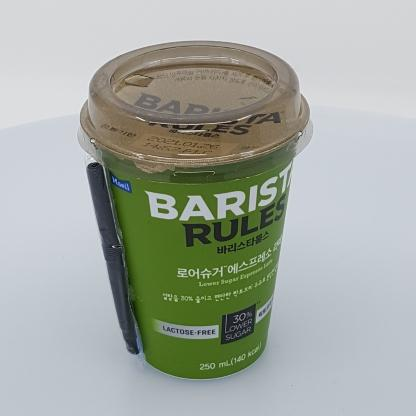-------------------: (78, 41, 314, 380)
